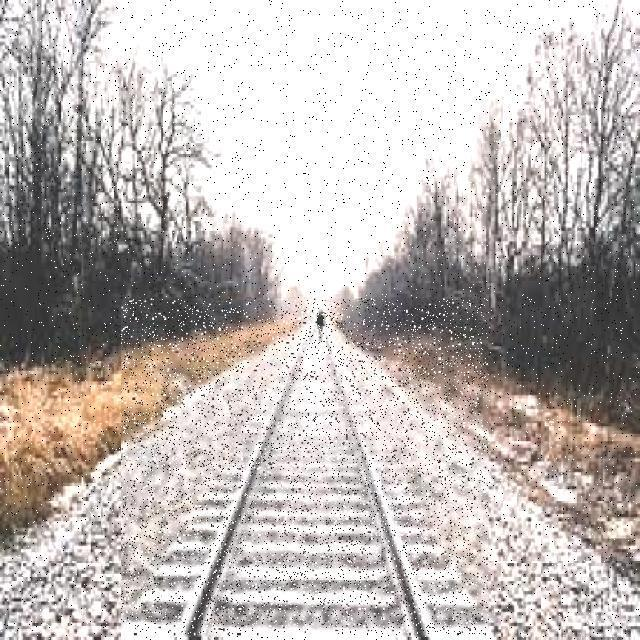danger: (311, 307, 334, 356)
rail: (122, 300, 488, 634)
